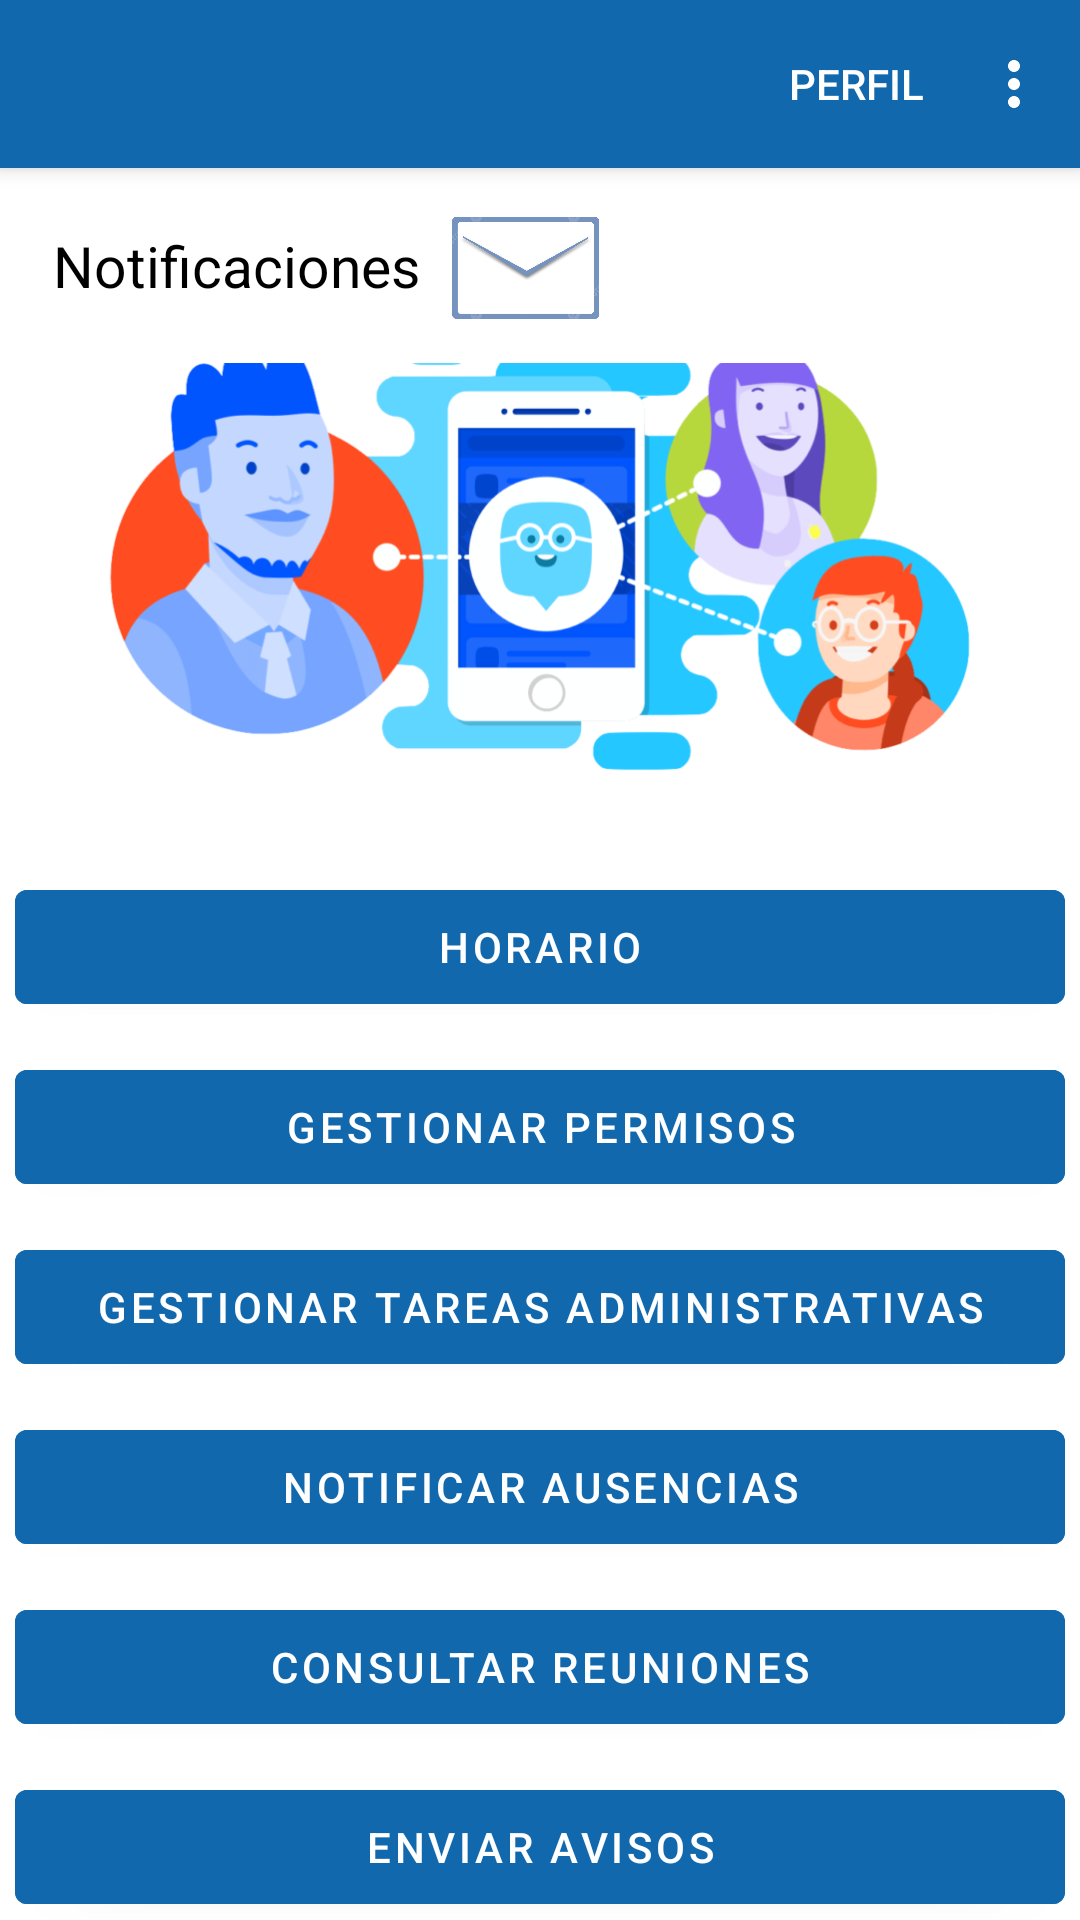

Point at icon controls on the screen. Image size 1080 x 1920, points as [x,y].
mail: [525,265]
